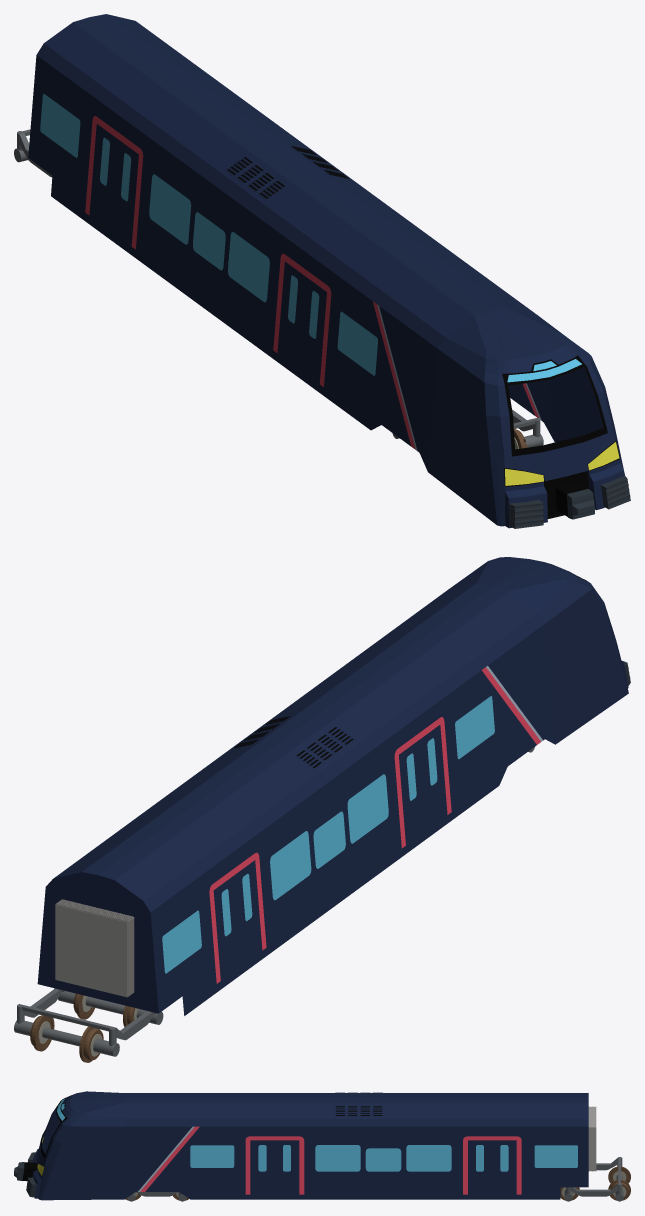
Rendered from type_76_cab_2.fbx.
The picture shows the model from 3 angles, top to bottom: view 1: azimuth 30°, elevation 25°; view 2: azimuth 150°, elevation 25°; view 3: azimuth 270°, elevation 25°; orthographic projection. The views are drawn at different scales.
Visible parts, largest first — view 1: Cab 2; view 2: Cab 2; view 3: Cab 2.
Boxes of the visible parts, x1,y1,x2,y2 form: Cab 2: [14, 14, 630, 528]; Cab 2: [14, 557, 630, 1062]; Cab 2: [14, 1091, 630, 1201].
Bounding box in the file's own units: 356 × 426 × 2499.
